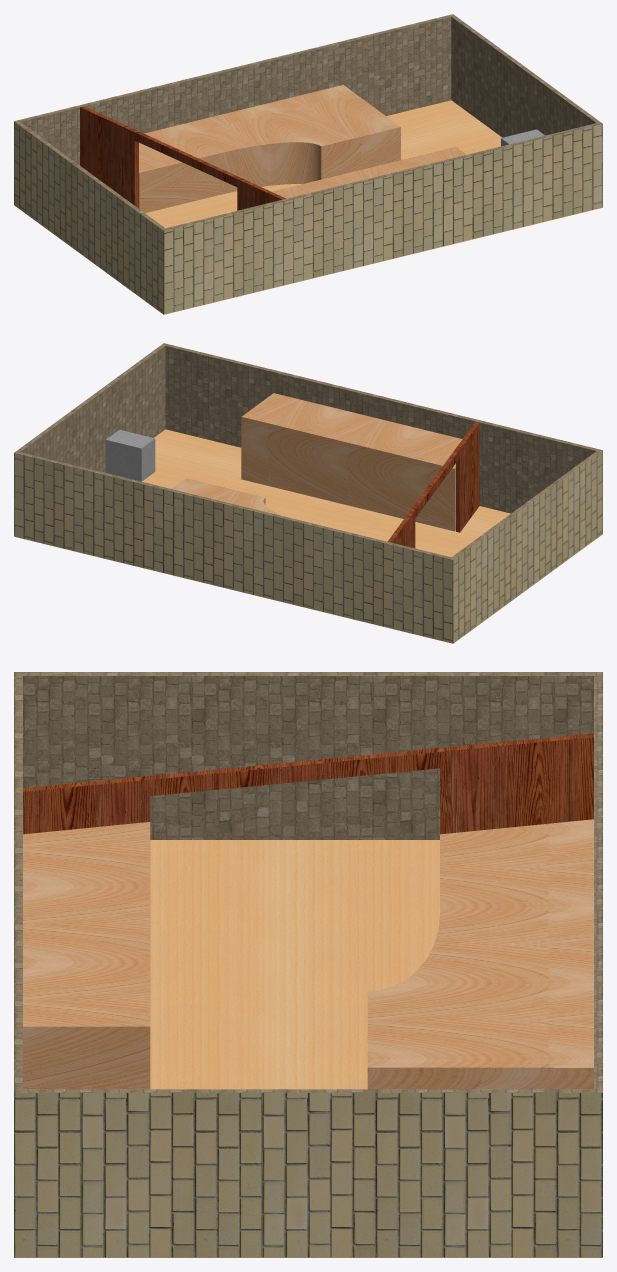
File: sim_env_200.DAE
3 renders of one model, top to bottom at view 1: azimuth 30°, elevation 25°; view 2: azimuth 150°, elevation 25°; view 3: azimuth 270°, elevation 25°, orthographic. The views are drawn at different scales.
Parts seen in each view (by area): view 1: stitch_result_stitchFBXASC032all_ncl1_1-Pivot, stitch_result_stitchFBXASC032all-Pivot, stitch_result_stitchFBXASC032all_ncl1_4-Pivot, stitch_result_stitchFBXASC032all_ncl1_2-Pivot, stitch_result_stitchFBXASC032all_ncl1_3-Pivot, stitch_result_stitchFBXASC032all_ncl1_5-Pivot; view 2: stitch_result_stitchFBXASC032all_ncl1_1-Pivot, stitch_result_stitchFBXASC032all-Pivot, stitch_result_stitchFBXASC032all_ncl1_5-Pivot, stitch_result_stitchFBXASC032all_ncl1_2-Pivot, stitch_result_stitchFBXASC032all_ncl1_3-Pivot, stitch_result_stitchFBXASC032all_ncl1_6-Pivot, stitch_result_stitchFBXASC032all_ncl1_4-Pivot; view 3: stitch_result_stitchFBXASC032all_ncl1_1-Pivot, stitch_result_stitchFBXASC032all-Pivot, stitch_result_stitchFBXASC032all_ncl1_2-Pivot, stitch_result_stitchFBXASC032all_ncl1_4-Pivot, stitch_result_stitchFBXASC032all_ncl1_5-Pivot, stitch_result_stitchFBXASC032all_ncl1_3-Pivot.
Part boxes in pixels (x1,y1,x2,y2): stitch_result_stitchFBXASC032all_ncl1_1-Pivot: [14, 121, 602, 314]; stitch_result_stitchFBXASC032all-Pivot: [14, 14, 602, 230]; stitch_result_stitchFBXASC032all_ncl1_4-Pivot: [139, 85, 400, 213]; stitch_result_stitchFBXASC032all_ncl1_2-Pivot: [14, 100, 602, 314]; stitch_result_stitchFBXASC032all_ncl1_3-Pivot: [80, 106, 285, 210]; stitch_result_stitchFBXASC032all_ncl1_5-Pivot: [272, 147, 466, 198]; stitch_result_stitchFBXASC032all_ncl1_1-Pivot: [14, 450, 602, 643]; stitch_result_stitchFBXASC032all-Pivot: [14, 343, 602, 559]; stitch_result_stitchFBXASC032all_ncl1_5-Pivot: [241, 393, 462, 531]; stitch_result_stitchFBXASC032all_ncl1_2-Pivot: [14, 429, 602, 643]; stitch_result_stitchFBXASC032all_ncl1_3-Pivot: [388, 421, 479, 548]; stitch_result_stitchFBXASC032all_ncl1_6-Pivot: [105, 429, 155, 481]; stitch_result_stitchFBXASC032all_ncl1_4-Pivot: [171, 478, 281, 515]; stitch_result_stitchFBXASC032all_ncl1_1-Pivot: [14, 672, 602, 1257]; stitch_result_stitchFBXASC032all-Pivot: [14, 672, 602, 1092]; stitch_result_stitchFBXASC032all_ncl1_2-Pivot: [14, 840, 602, 1257]; stitch_result_stitchFBXASC032all_ncl1_4-Pivot: [367, 819, 593, 1089]; stitch_result_stitchFBXASC032all_ncl1_5-Pivot: [23, 822, 150, 1089]; stitch_result_stitchFBXASC032all_ncl1_3-Pivot: [23, 733, 593, 834].
Bounding box in the file's own units: 55.02 × 32.52 × 10.05.
